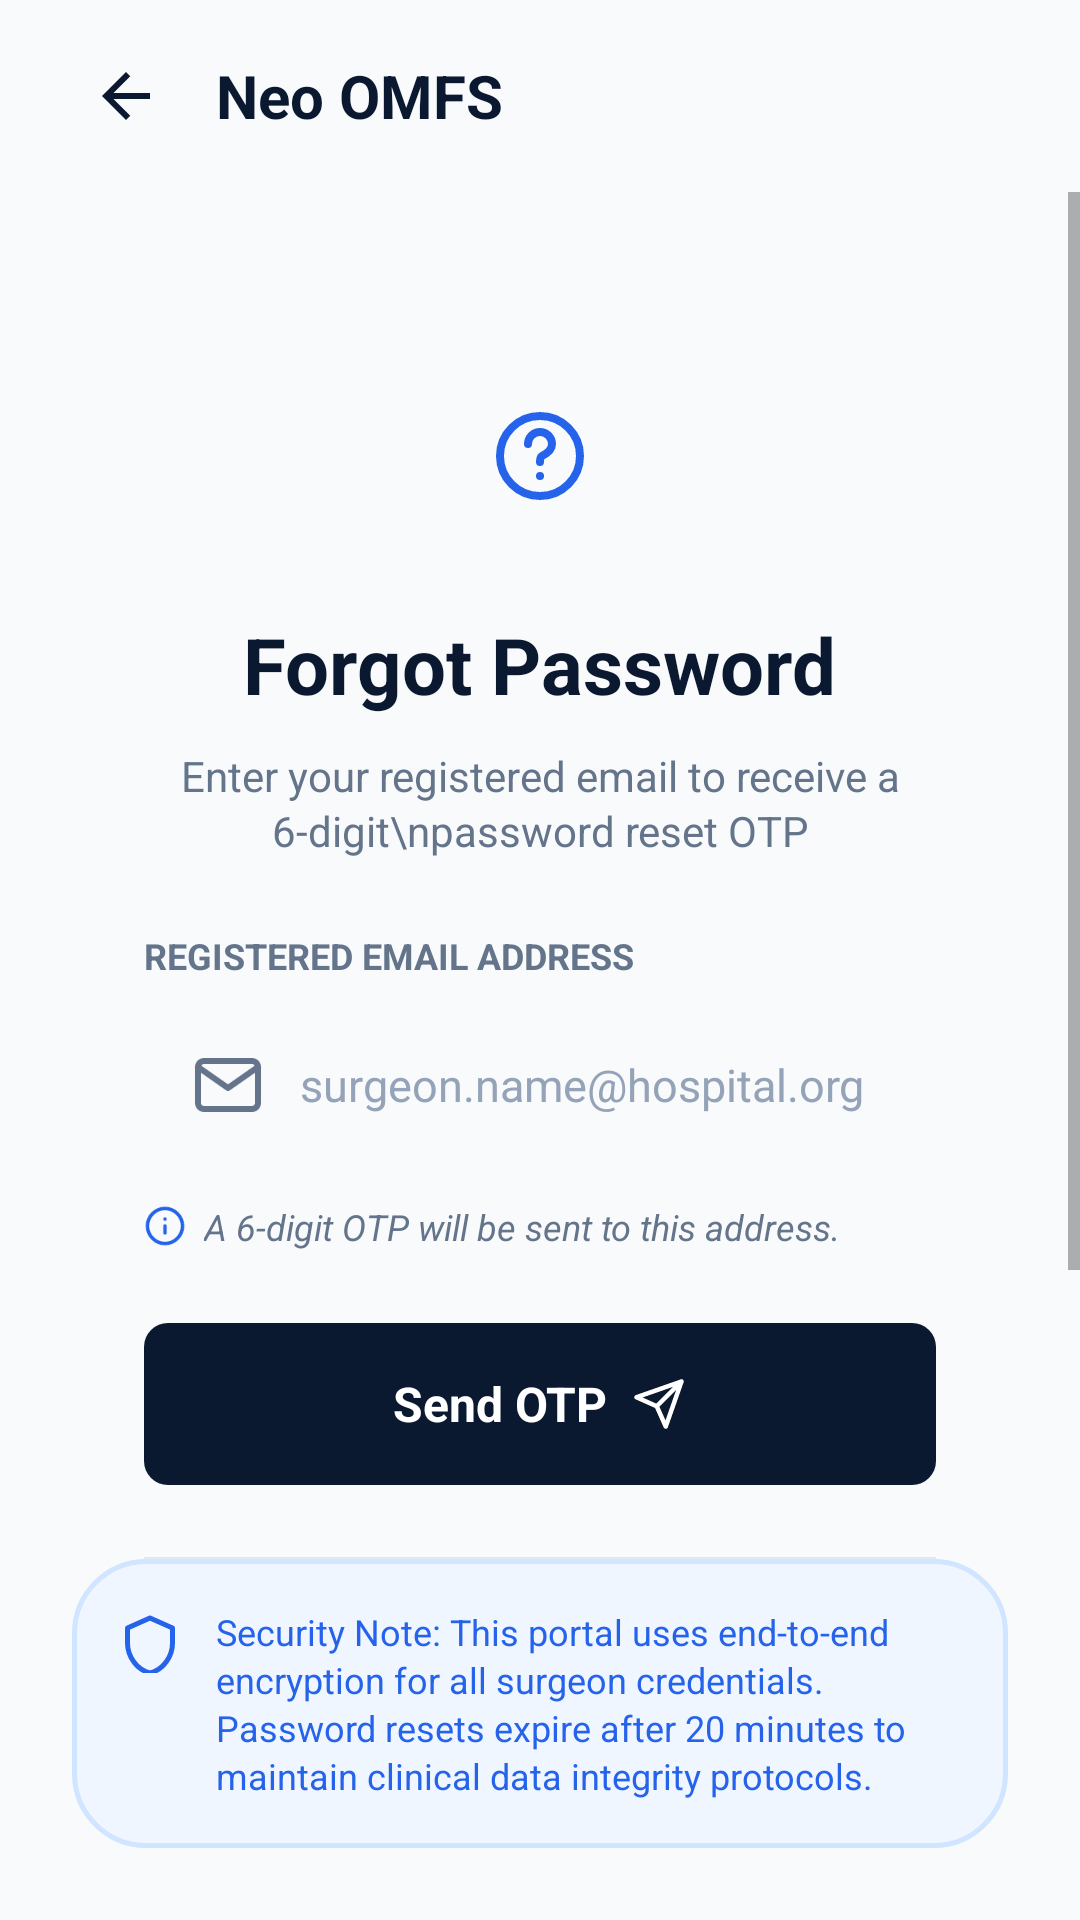

Named icons in this screenshot (1080 x 1920) and their centers, point (x, y):
Back Button: point (126, 96)
help: point (540, 456)
info: point (165, 1226)
shield: point (150, 1644)
